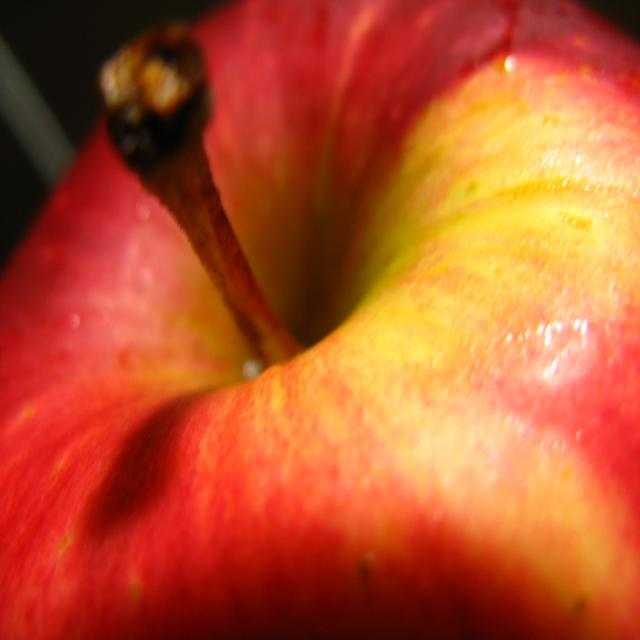Healty Apple: (42, 3, 626, 640)
